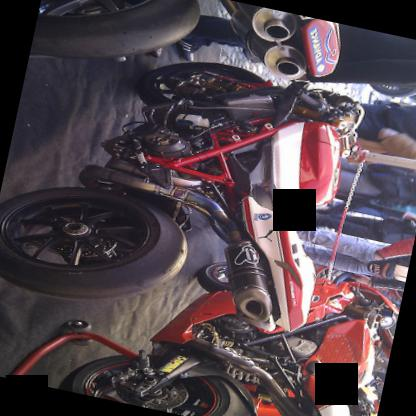backpack: (362, 157, 416, 208)
